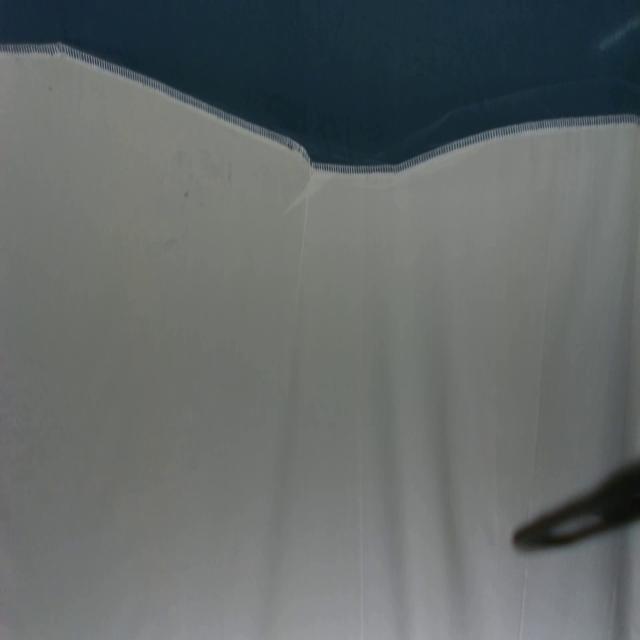crease: (355, 358, 366, 638), (515, 556, 529, 640)
